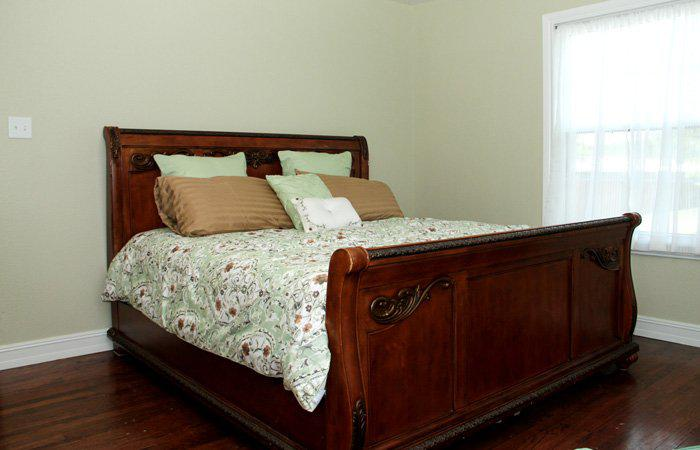bed: (93, 119, 661, 449)
